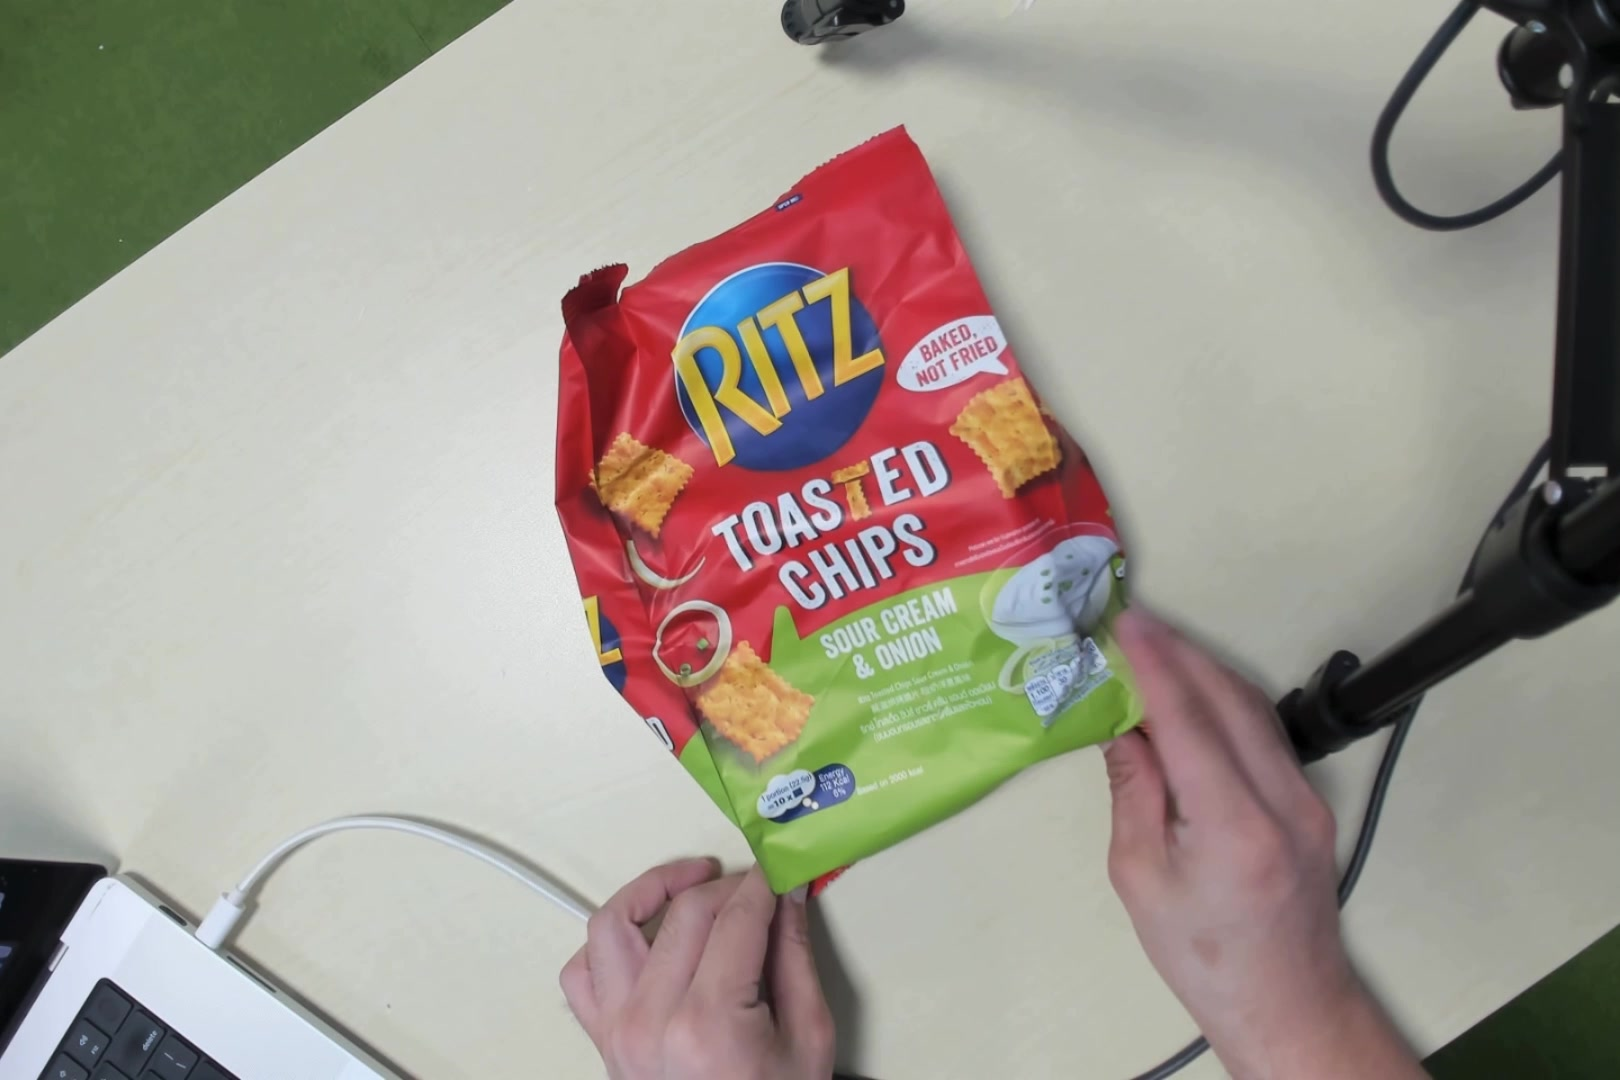BiscuitsCrackersCookies_200-299g_NonHalal_NonHealthy: (615, 199, 1090, 818)
